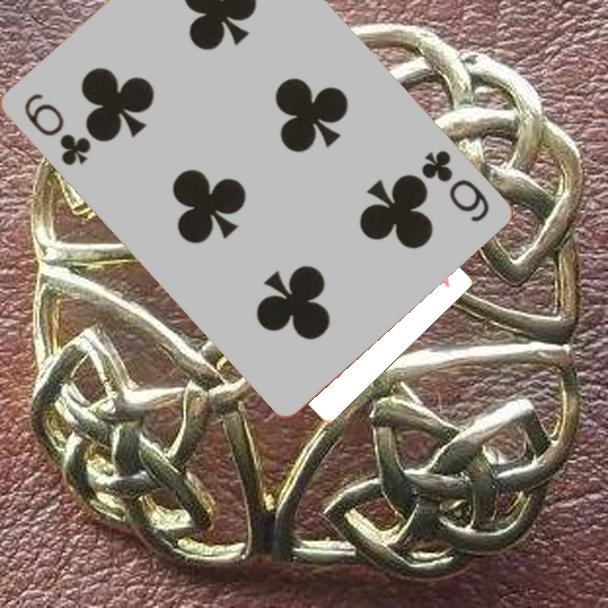c06: (19, 89, 94, 169), (417, 146, 492, 226)
